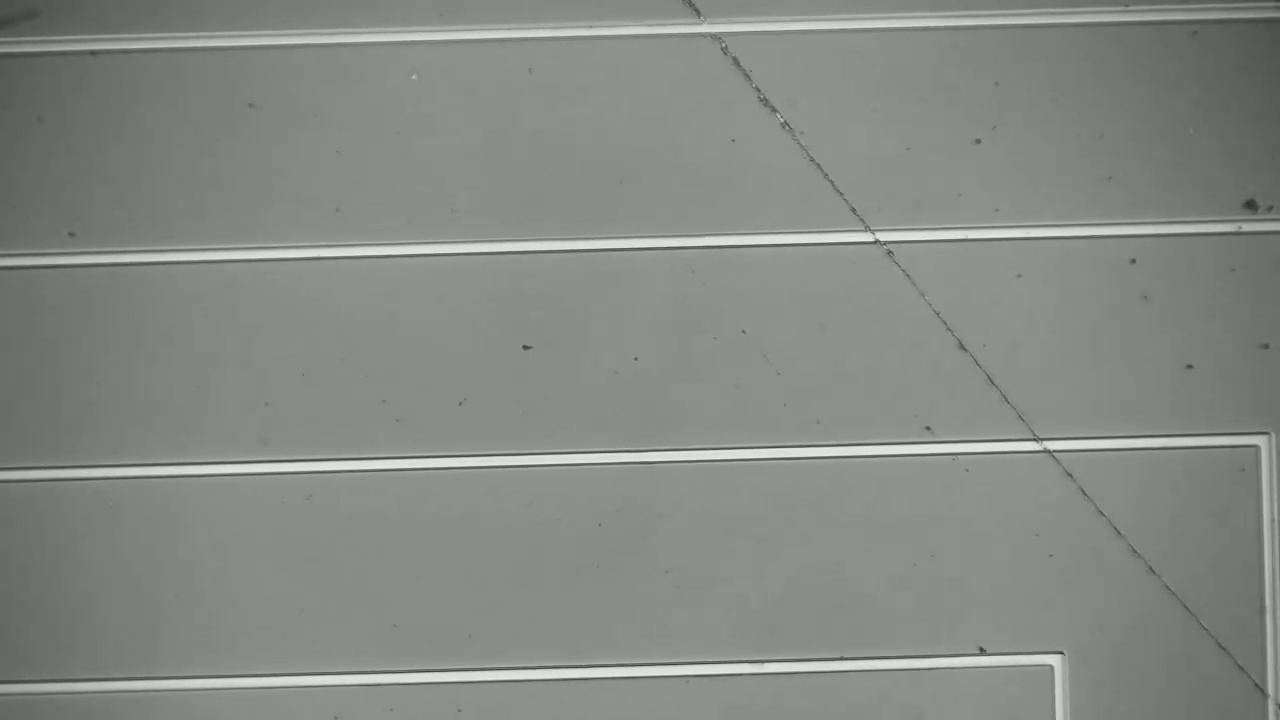scratch: (658, 4, 1254, 692)
